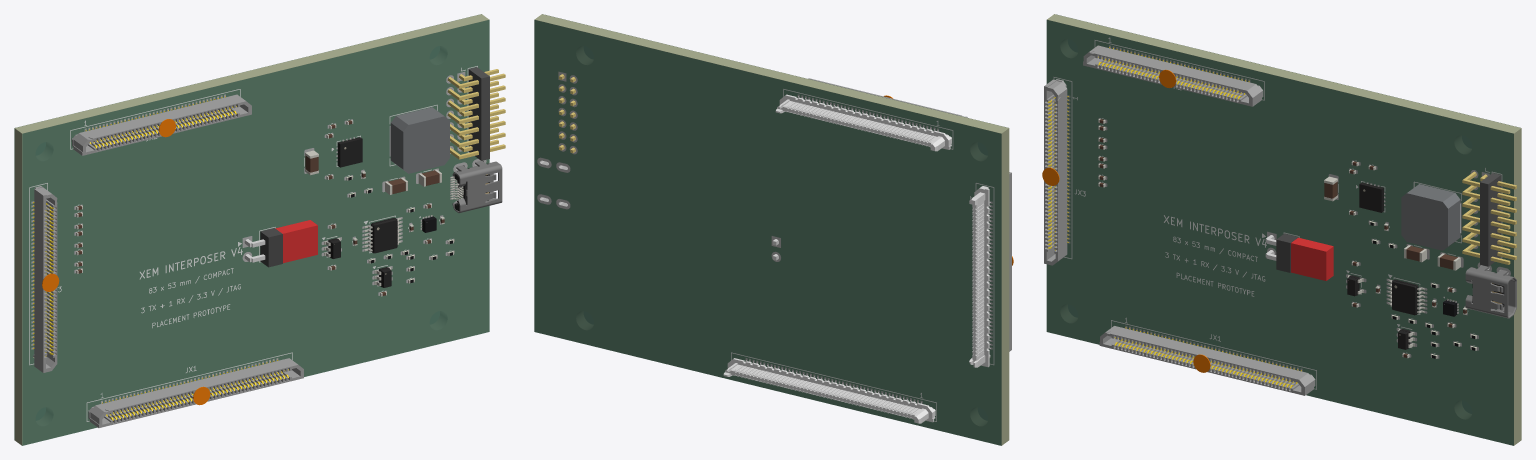
Rendered from Interposer_V4_Detailed.glb.
3 views of the same model, side by side, from view 1: azimuth 30°, elevation 25°; view 2: azimuth 150°, elevation 25°; view 3: azimuth 330°, elevation 25° (orthographic).
Parts seen in each view (by area): view 1: =>[0:1:1:72], =>[0:1:1:74], ERF6-40-03.5-L-DV-A-K-TR_H (×2), ERF6-50-03.5-L-DV-A-K-TR_H, =>[0:1:1:14], =>[0:1:1:69], =>[0:1:1:70], =>[0:1:1:37], =>[0:1:1:45], ERF6-40-03.5-L-DV-A-K-TR_P (×2), =>[0:1:1:33], =>[0:1:1:41] (+4 smaller); view 2: =>[0:1:1:74], =>[0:1:1:73], =>[0:1:1:61] (×2), =>[0:1:1:65], =>[0:1:1:69], =>[0:1:1:71], ERF6-40-03.5-L-DV-A-K-TR_H; view 3: =>[0:1:1:72], =>[0:1:1:74], ERF6-40-03.5-L-DV-A-K-TR_H (×2), ERF6-50-03.5-L-DV-A-K-TR_H, =>[0:1:1:14], =>[0:1:1:70], =>[0:1:1:69], =>[0:1:1:37], =>[0:1:1:33], =>[0:1:1:45], ERF6-40-03.5-L-DV-A-K-TR_P (×2), =>[0:1:1:41] (+3 smaller).
Part boxes in pixels (x1,y1,x2,y2): =>[0:1:1:72]: [22, 19, 489, 445]; =>[0:1:1:74]: [14, 14, 488, 445]; ERF6-40-03.5-L-DV-A-K-TR_H (×2): [33, 94, 251, 372]; ERF6-50-03.5-L-DV-A-K-TR_H: [88, 358, 303, 427]; =>[0:1:1:14]: [390, 107, 449, 173]; =>[0:1:1:69]: [31, 71, 486, 403]; =>[0:1:1:70]: [29, 66, 477, 421]; =>[0:1:1:37]: [450, 161, 502, 213]; =>[0:1:1:45]: [468, 67, 489, 160]; ERF6-40-03.5-L-DV-A-K-TR_P (×2): [33, 96, 236, 356]; =>[0:1:1:33]: [275, 220, 317, 263]; =>[0:1:1:41]: [364, 218, 401, 253]; =>[0:1:1:74]: [534, 14, 1009, 445]; =>[0:1:1:73]: [534, 20, 1001, 445]; =>[0:1:1:61] (×2): [775, 94, 990, 367]; =>[0:1:1:65]: [723, 358, 935, 423]; =>[0:1:1:69]: [537, 72, 992, 403]; =>[0:1:1:71]: [731, 89, 994, 421]; ERF6-40-03.5-L-DV-A-K-TR_H: [1009, 172, 1011, 351]; =>[0:1:1:72]: [1046, 20, 1513, 445]; =>[0:1:1:74]: [1047, 14, 1521, 445]; ERF6-40-03.5-L-DV-A-K-TR_H (×2): [1044, 45, 1263, 265]; ERF6-50-03.5-L-DV-A-K-TR_H: [1099, 326, 1315, 395]; =>[0:1:1:14]: [1401, 184, 1460, 250]; =>[0:1:1:70]: [1053, 37, 1502, 389]; =>[0:1:1:69]: [1067, 45, 1510, 371]; =>[0:1:1:37]: [1465, 265, 1516, 318]; =>[0:1:1:33]: [1291, 237, 1333, 280]; =>[0:1:1:45]: [1480, 173, 1501, 266]; ERF6-40-03.5-L-DV-A-K-TR_P (×2): [1047, 47, 1249, 250]; =>[0:1:1:41]: [1388, 279, 1424, 315].
Bounding box in the file's own units: 83.97 × 53 × 10.46.
